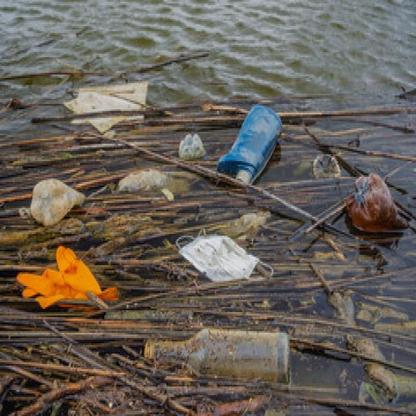plastic bottle: (144, 327, 292, 387), (219, 105, 280, 184), (344, 175, 407, 231), (31, 178, 87, 224), (177, 134, 208, 157)
